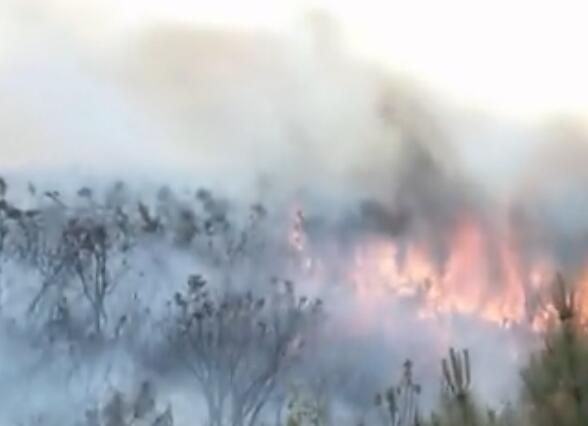fire: (285, 205, 588, 346)
yanwu: (2, 2, 588, 423)
